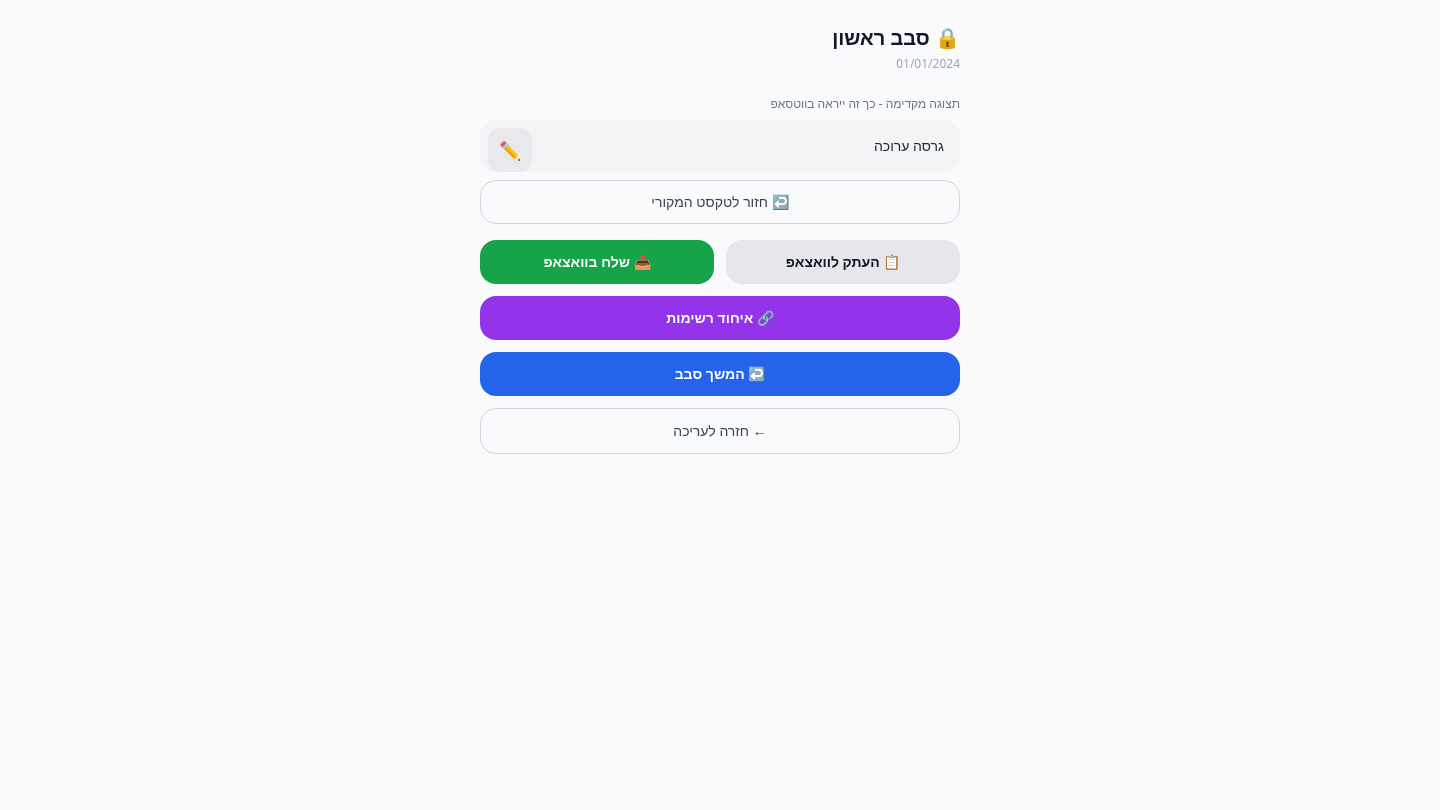
ResultScreen — back navigation guard › "אני רוצה להישאר עם הטקסט שערכתי" closes the modal without navigating
Click the button "← חזרה לעריכה": (720, 431) [480,408,960,454]
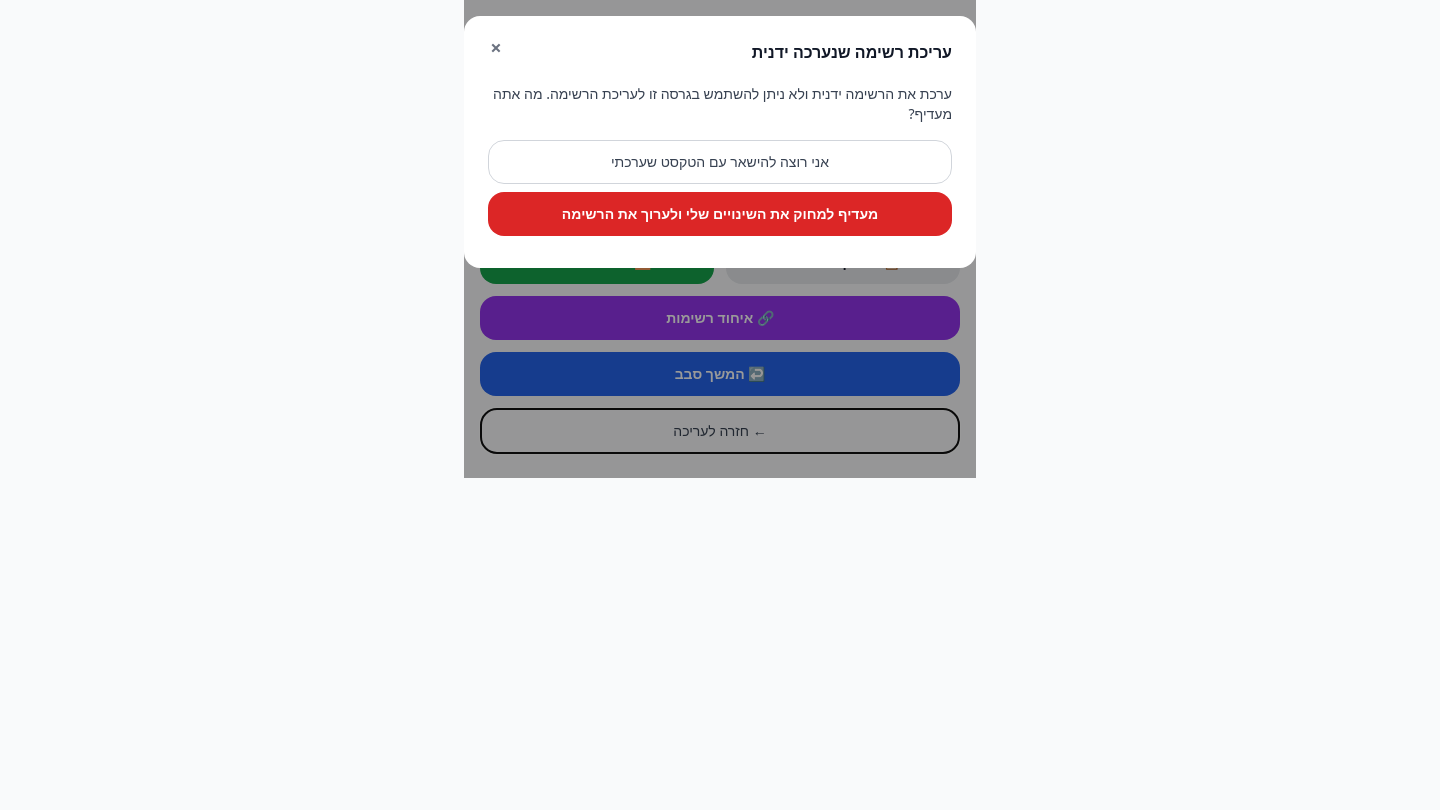
Expected: the dialog is shown, [464,16,976,268]
Click the button "אני רוצה להישאר עם הטקסט שערכתי": (720, 162) [488,140,952,184]
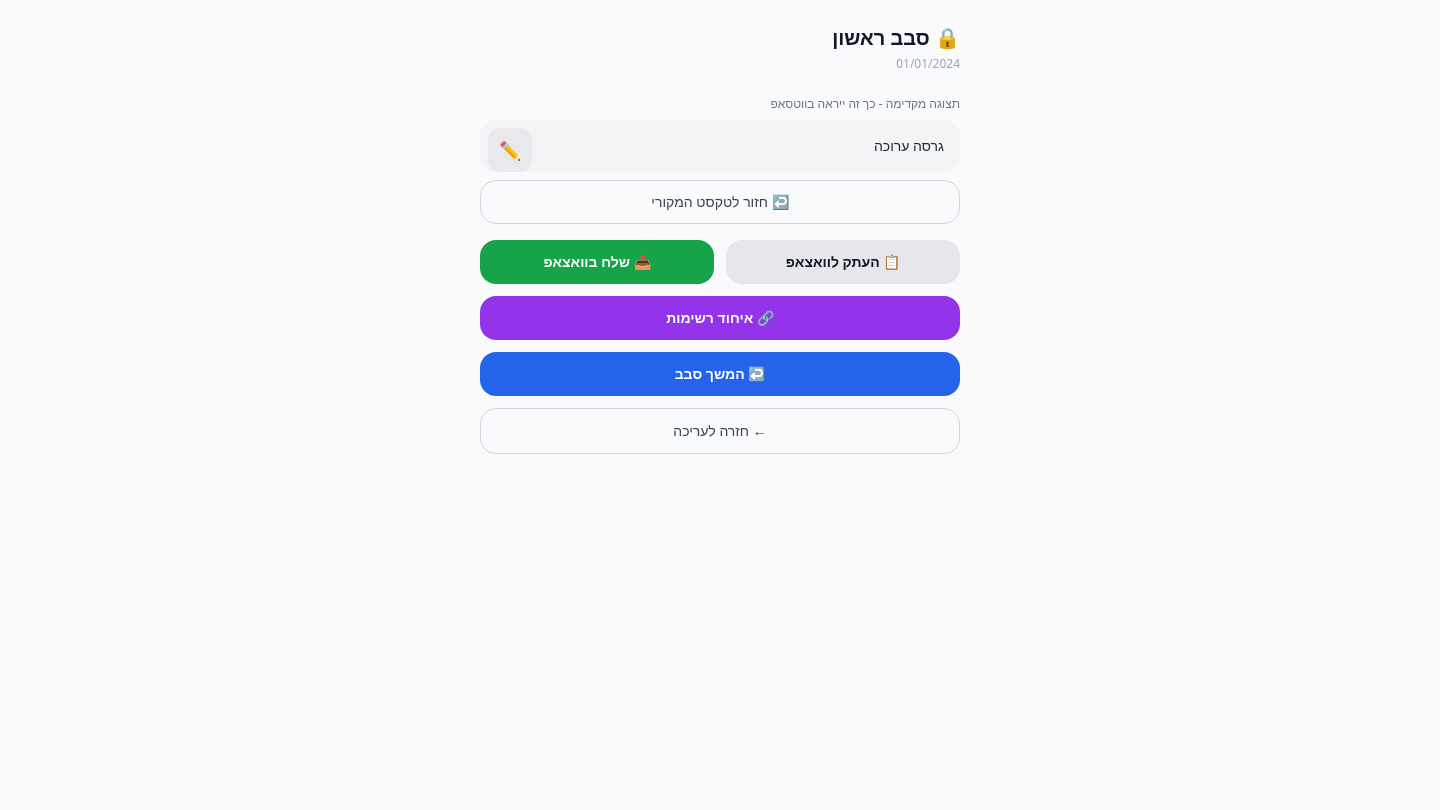
Expected: the text "גרסה ערוכה" is shown, [480,120,960,172]
Expected: the dialog is gone
